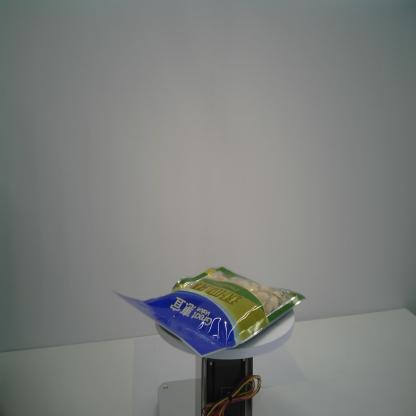Dried Fruit: (110, 265, 308, 359)
